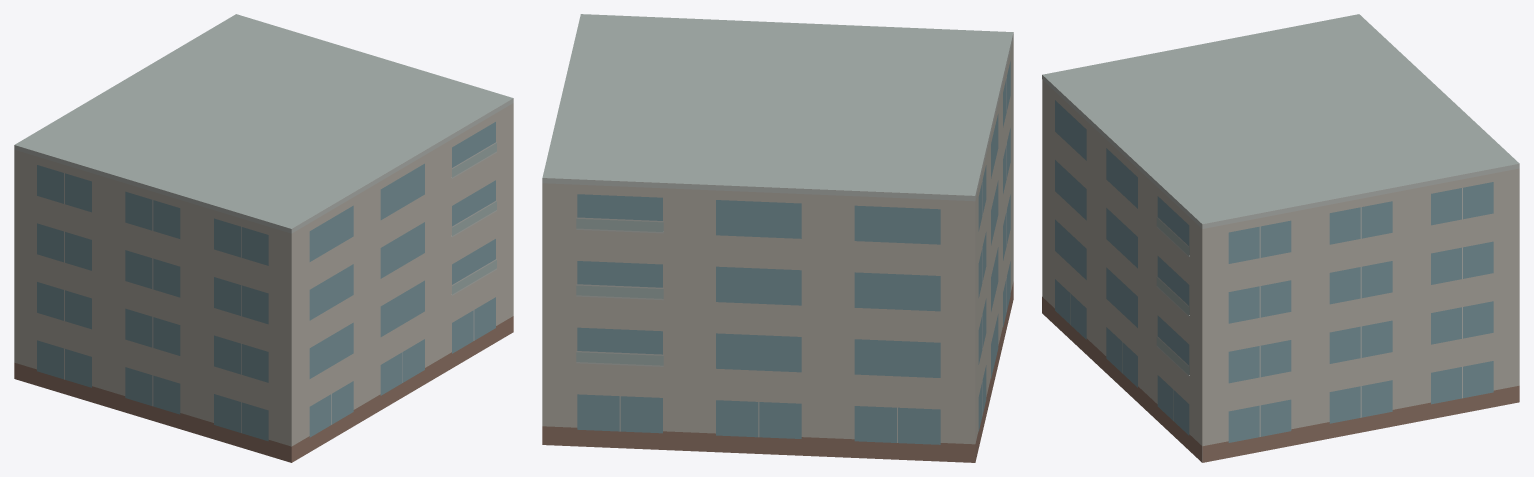
The model's file is residential-b73096e1-5043-46c6-86eb-9c190db5aa3b.glb.
The picture shows the model from 3 angles, left to right: view 1: azimuth 30°, elevation 25°; view 2: azimuth 150°, elevation 25°; view 3: azimuth 270°, elevation 25°; orthographic projection. The views are drawn at different scales.
Parts seen in each view (by area): view 1: residential-b73096e1-5043-46c6-86eb-9c190db5aa3b.tmp; view 2: residential-b73096e1-5043-46c6-86eb-9c190db5aa3b.tmp; view 3: residential-b73096e1-5043-46c6-86eb-9c190db5aa3b.tmp.
Boxes of the visible parts, x1=… form: residential-b73096e1-5043-46c6-86eb-9c190db5aa3b.tmp: x1=14, y1=14, x2=513, y2=462; residential-b73096e1-5043-46c6-86eb-9c190db5aa3b.tmp: x1=542, y1=14, x2=1013, y2=462; residential-b73096e1-5043-46c6-86eb-9c190db5aa3b.tmp: x1=1042, y1=14, x2=1519, y2=462.
Size of the model in its own units: 23.07 by 12.2 by 22.14.
